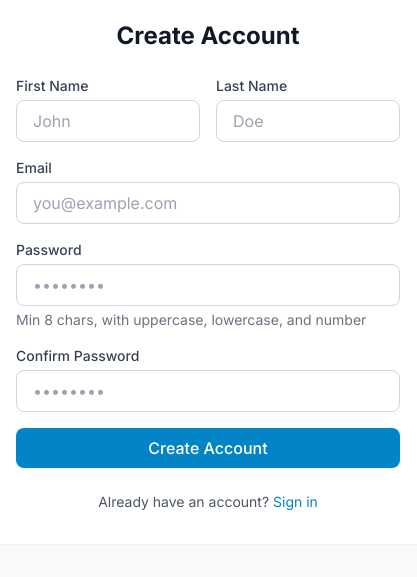
Test case: RegisterPage › shows API error message when registration fails
This screenshot has width=417, height=577.
Click the button "Create Account" at (208, 448), box [16, 428, 400, 468]
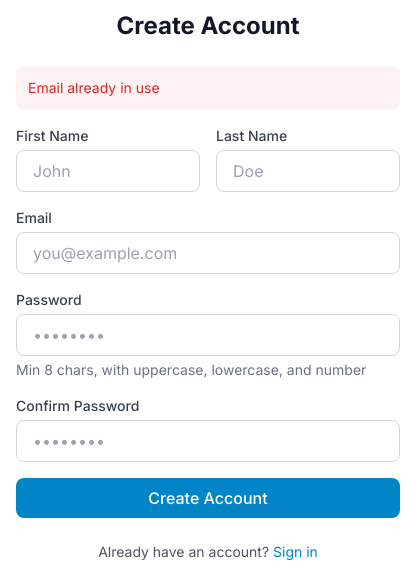
Result: the text "Email already in use" is shown at [16, 66, 400, 110]
